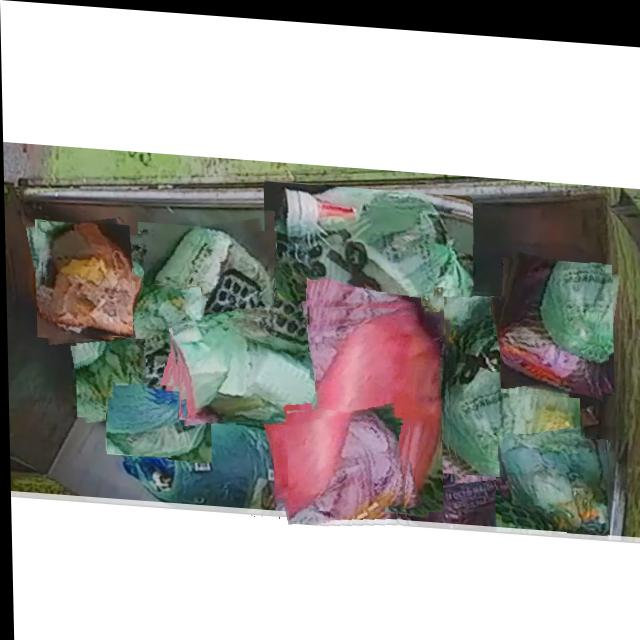general_trashbag: (265, 182, 470, 325), (447, 284, 579, 470), (144, 223, 273, 344), (172, 321, 319, 420), (496, 429, 606, 526), (108, 282, 198, 381), (104, 392, 208, 454), (77, 335, 144, 418)
other_trashbag: (310, 303, 439, 501), (287, 404, 403, 521), (499, 251, 595, 390), (43, 222, 131, 335)
